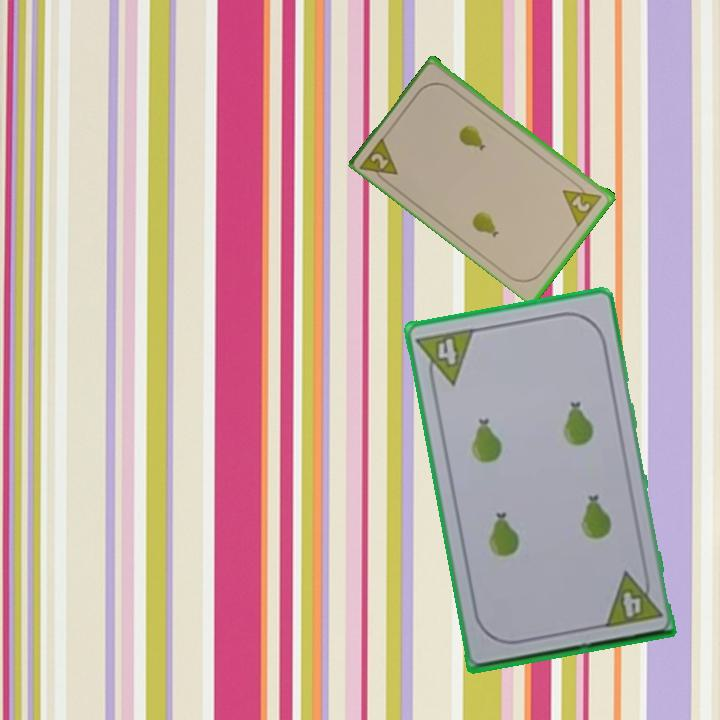2p: (357, 132, 402, 188), (559, 177, 605, 228)
4p: (413, 324, 478, 391), (600, 566, 665, 631)
